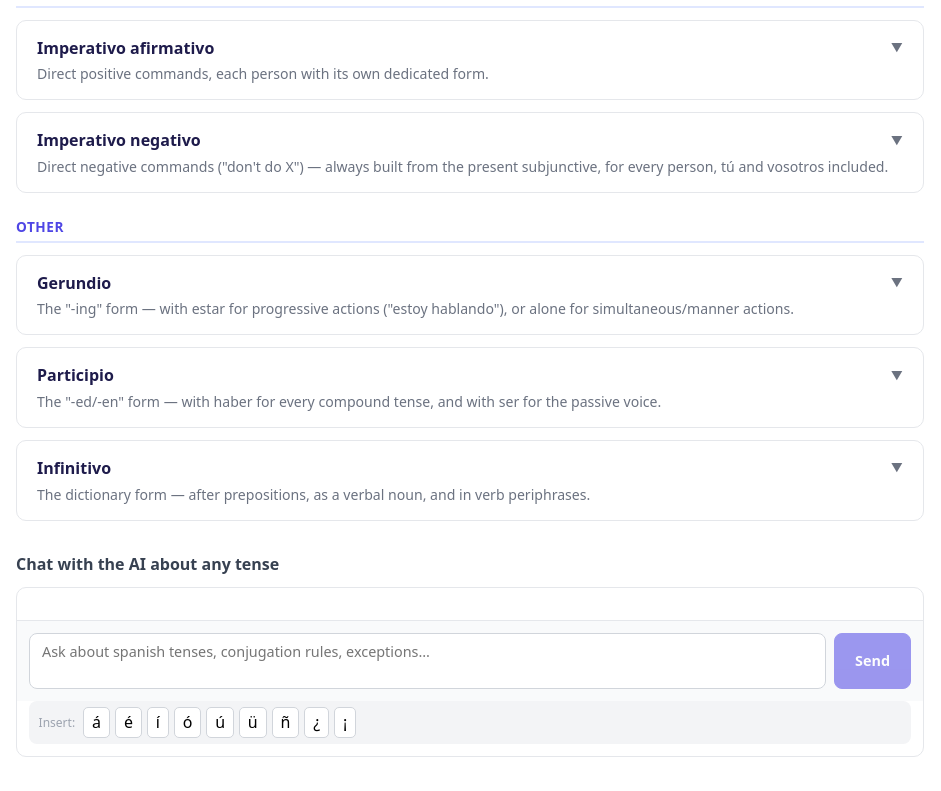
Test: streamed AI replies › the chat panel shows the streamed reply and sends the system prompt
The image size is (941, 791).
(page scrolled)
Type "¿Qué es el pretérito?" into the text box with placeholder "Ask about spanish tenses, conjugation rules, exceptions…" at (428, 660), box 29,632 -> 826,688
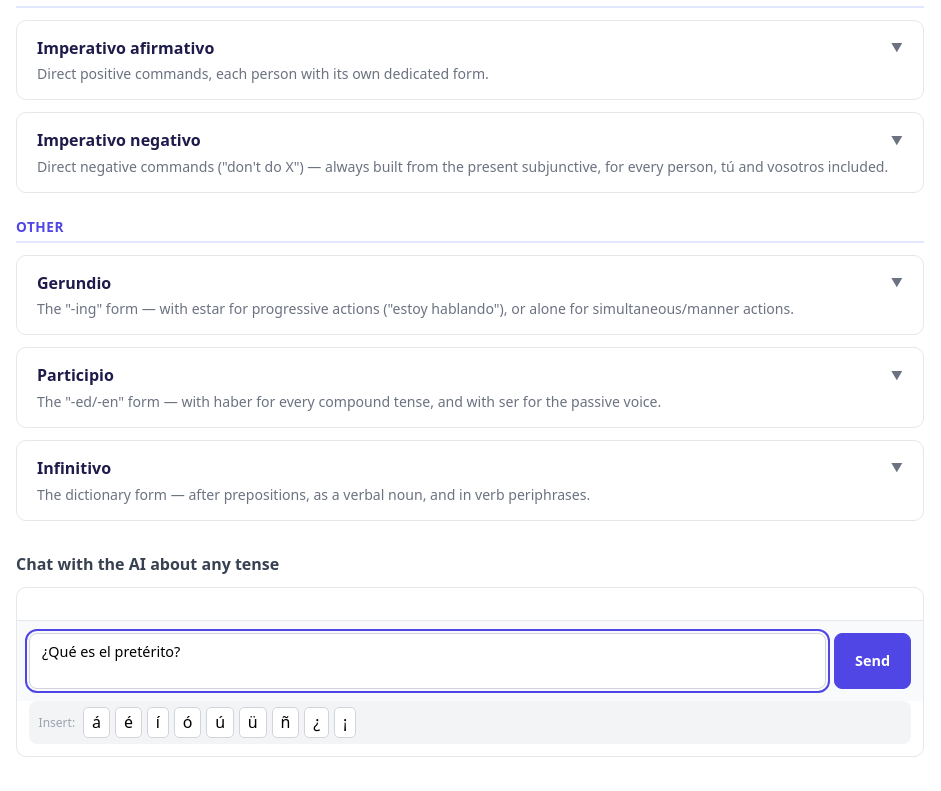
Click the button "Send" at (872, 660), box 834,632 -> 911,688
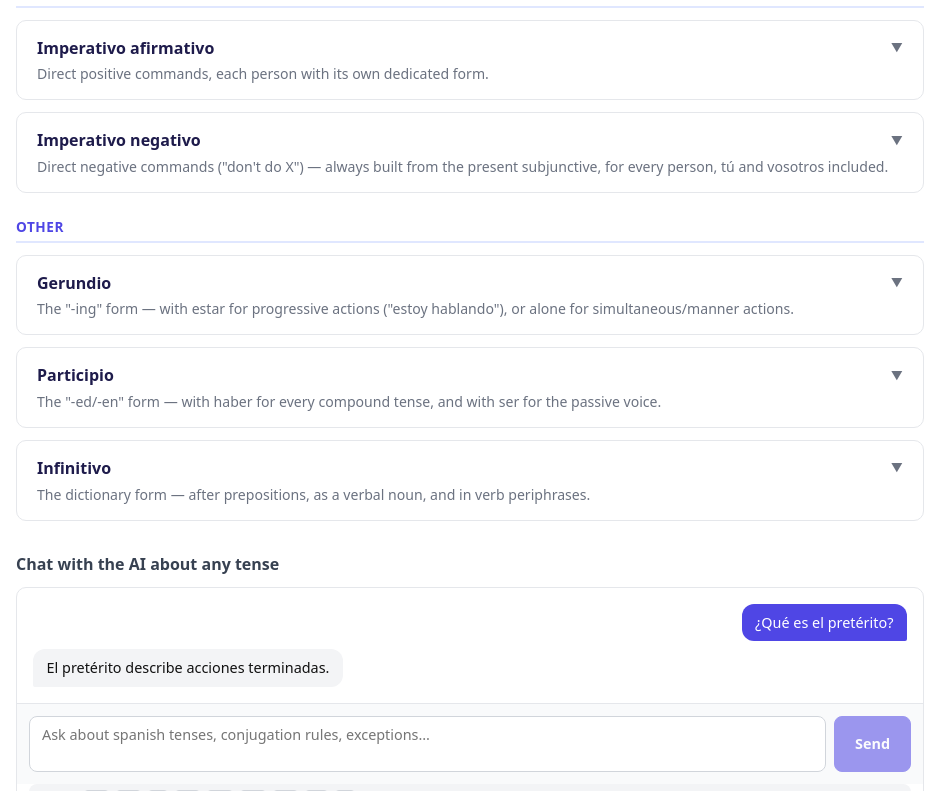
Now the text "El pretérito describe acciones terminadas." is shown, box 33,649 -> 343,687
